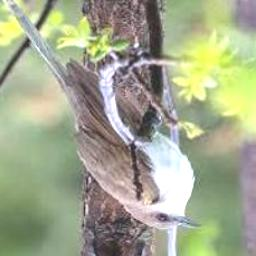Cuckoo: (1, 0, 202, 230)
